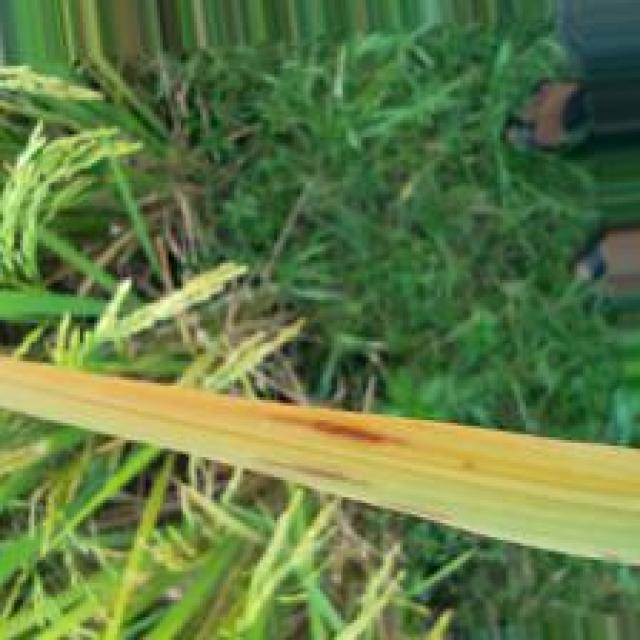Narrow_Brown_Leaf_Spot: (257, 417, 399, 455), (243, 453, 363, 485)
